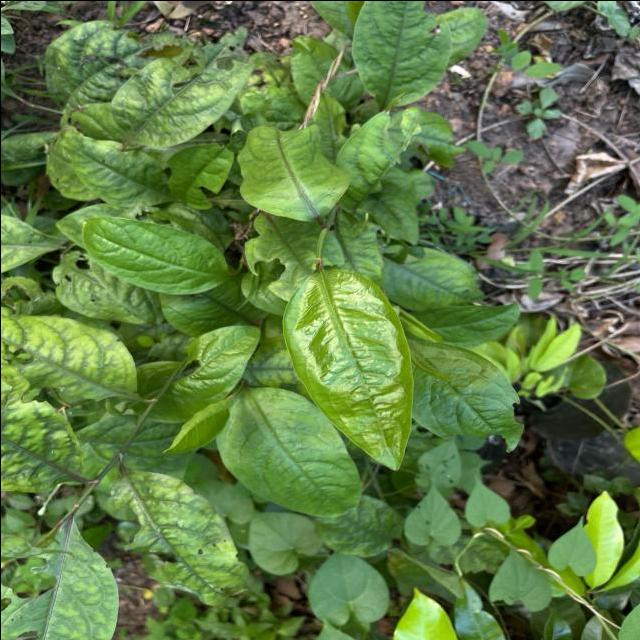Plumbago indica: (278, 266, 414, 472), (212, 383, 366, 518), (108, 468, 252, 606), (106, 25, 258, 149), (410, 336, 528, 454), (79, 215, 231, 296), (234, 120, 352, 220), (348, 0, 454, 109)
